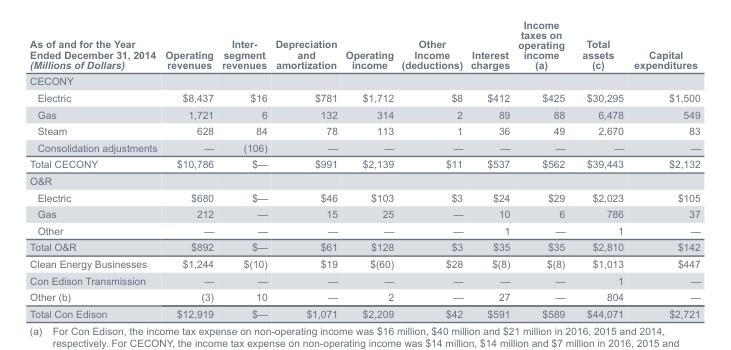table: (29, 28, 700, 318)
table column: (29, 28, 160, 318), (628, 28, 700, 318), (270, 28, 341, 318), (397, 28, 466, 318), (513, 28, 573, 318), (160, 28, 217, 318), (341, 28, 397, 318), (573, 28, 628, 318), (217, 28, 270, 318), (466, 28, 513, 318)
table column header: (29, 28, 700, 72)
table projected row header: (29, 72, 700, 89), (29, 172, 700, 188)
table row: (29, 28, 700, 72), (29, 72, 700, 89), (29, 105, 700, 122), (29, 138, 700, 155), (29, 155, 700, 172), (29, 188, 700, 205), (29, 221, 700, 238), (29, 238, 700, 255), (29, 271, 700, 288), (29, 89, 700, 105), (29, 122, 700, 138), (29, 172, 700, 188), (29, 205, 700, 221), (29, 255, 700, 271), (29, 288, 700, 304), (29, 304, 700, 318)
